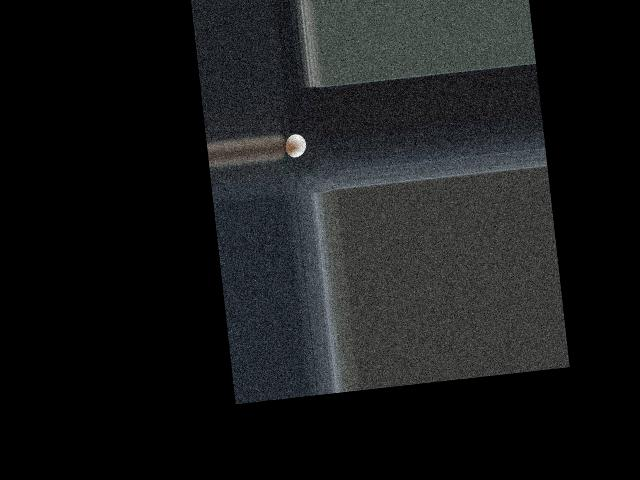egg: (284, 133, 307, 158)
